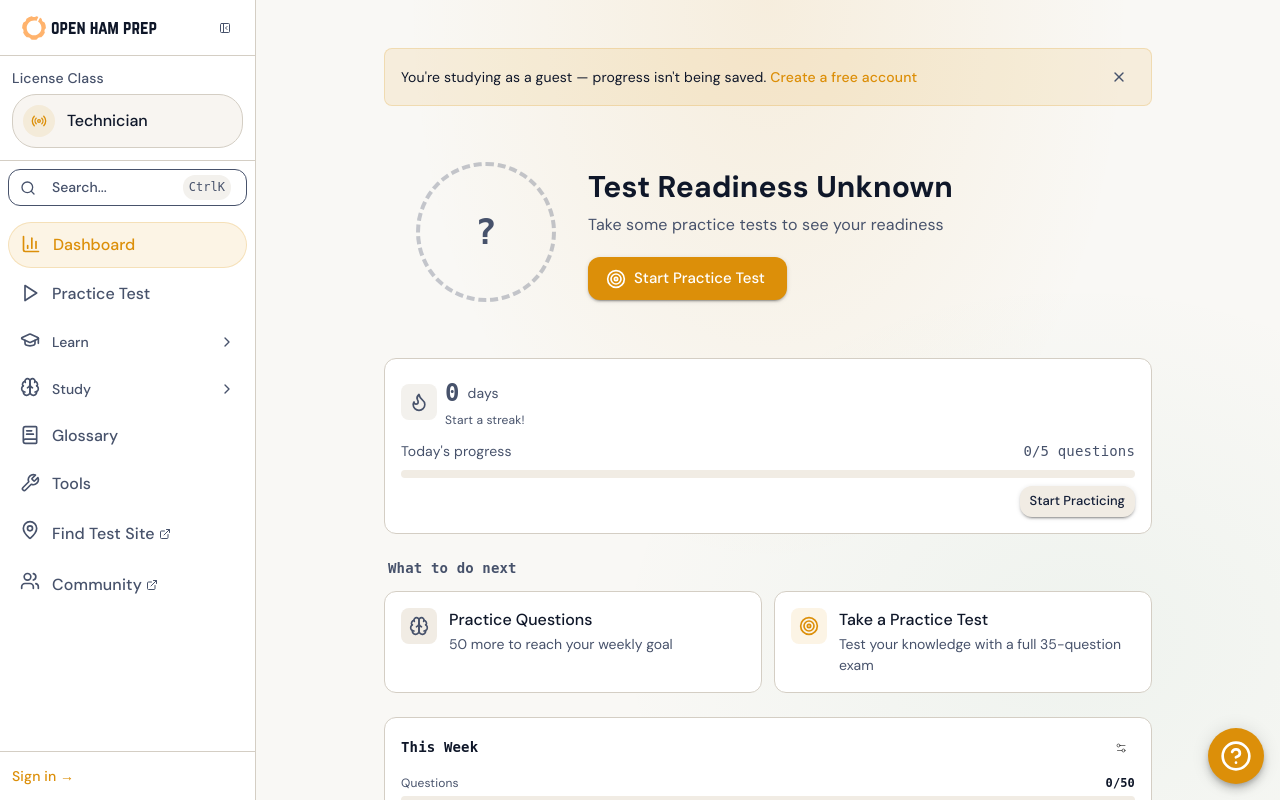
Scenario: Dashboard › Guest mode › persists banner dismissal to localStorage
Click the button named "dismiss banner". click: (1119, 77)
box: [1103, 61, 1135, 93]
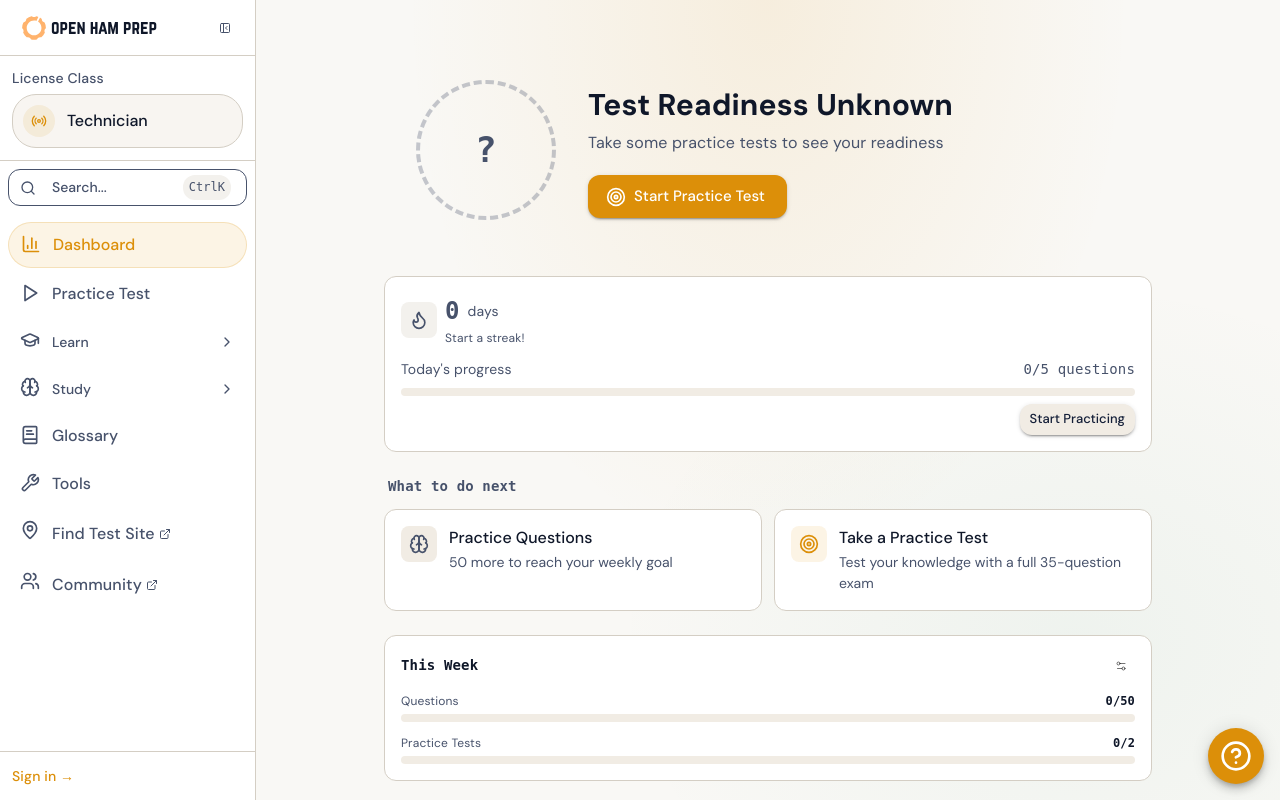
Expected: the text "You're studying as a guest" is gone
